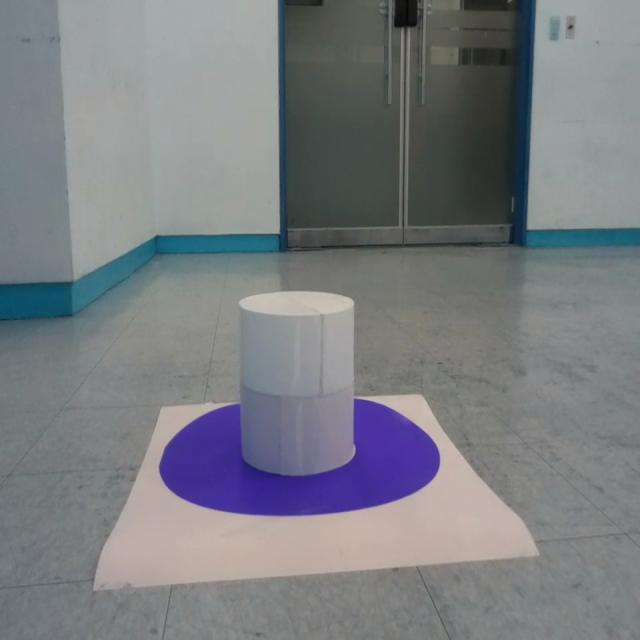cylinder: (238, 290, 356, 475)
